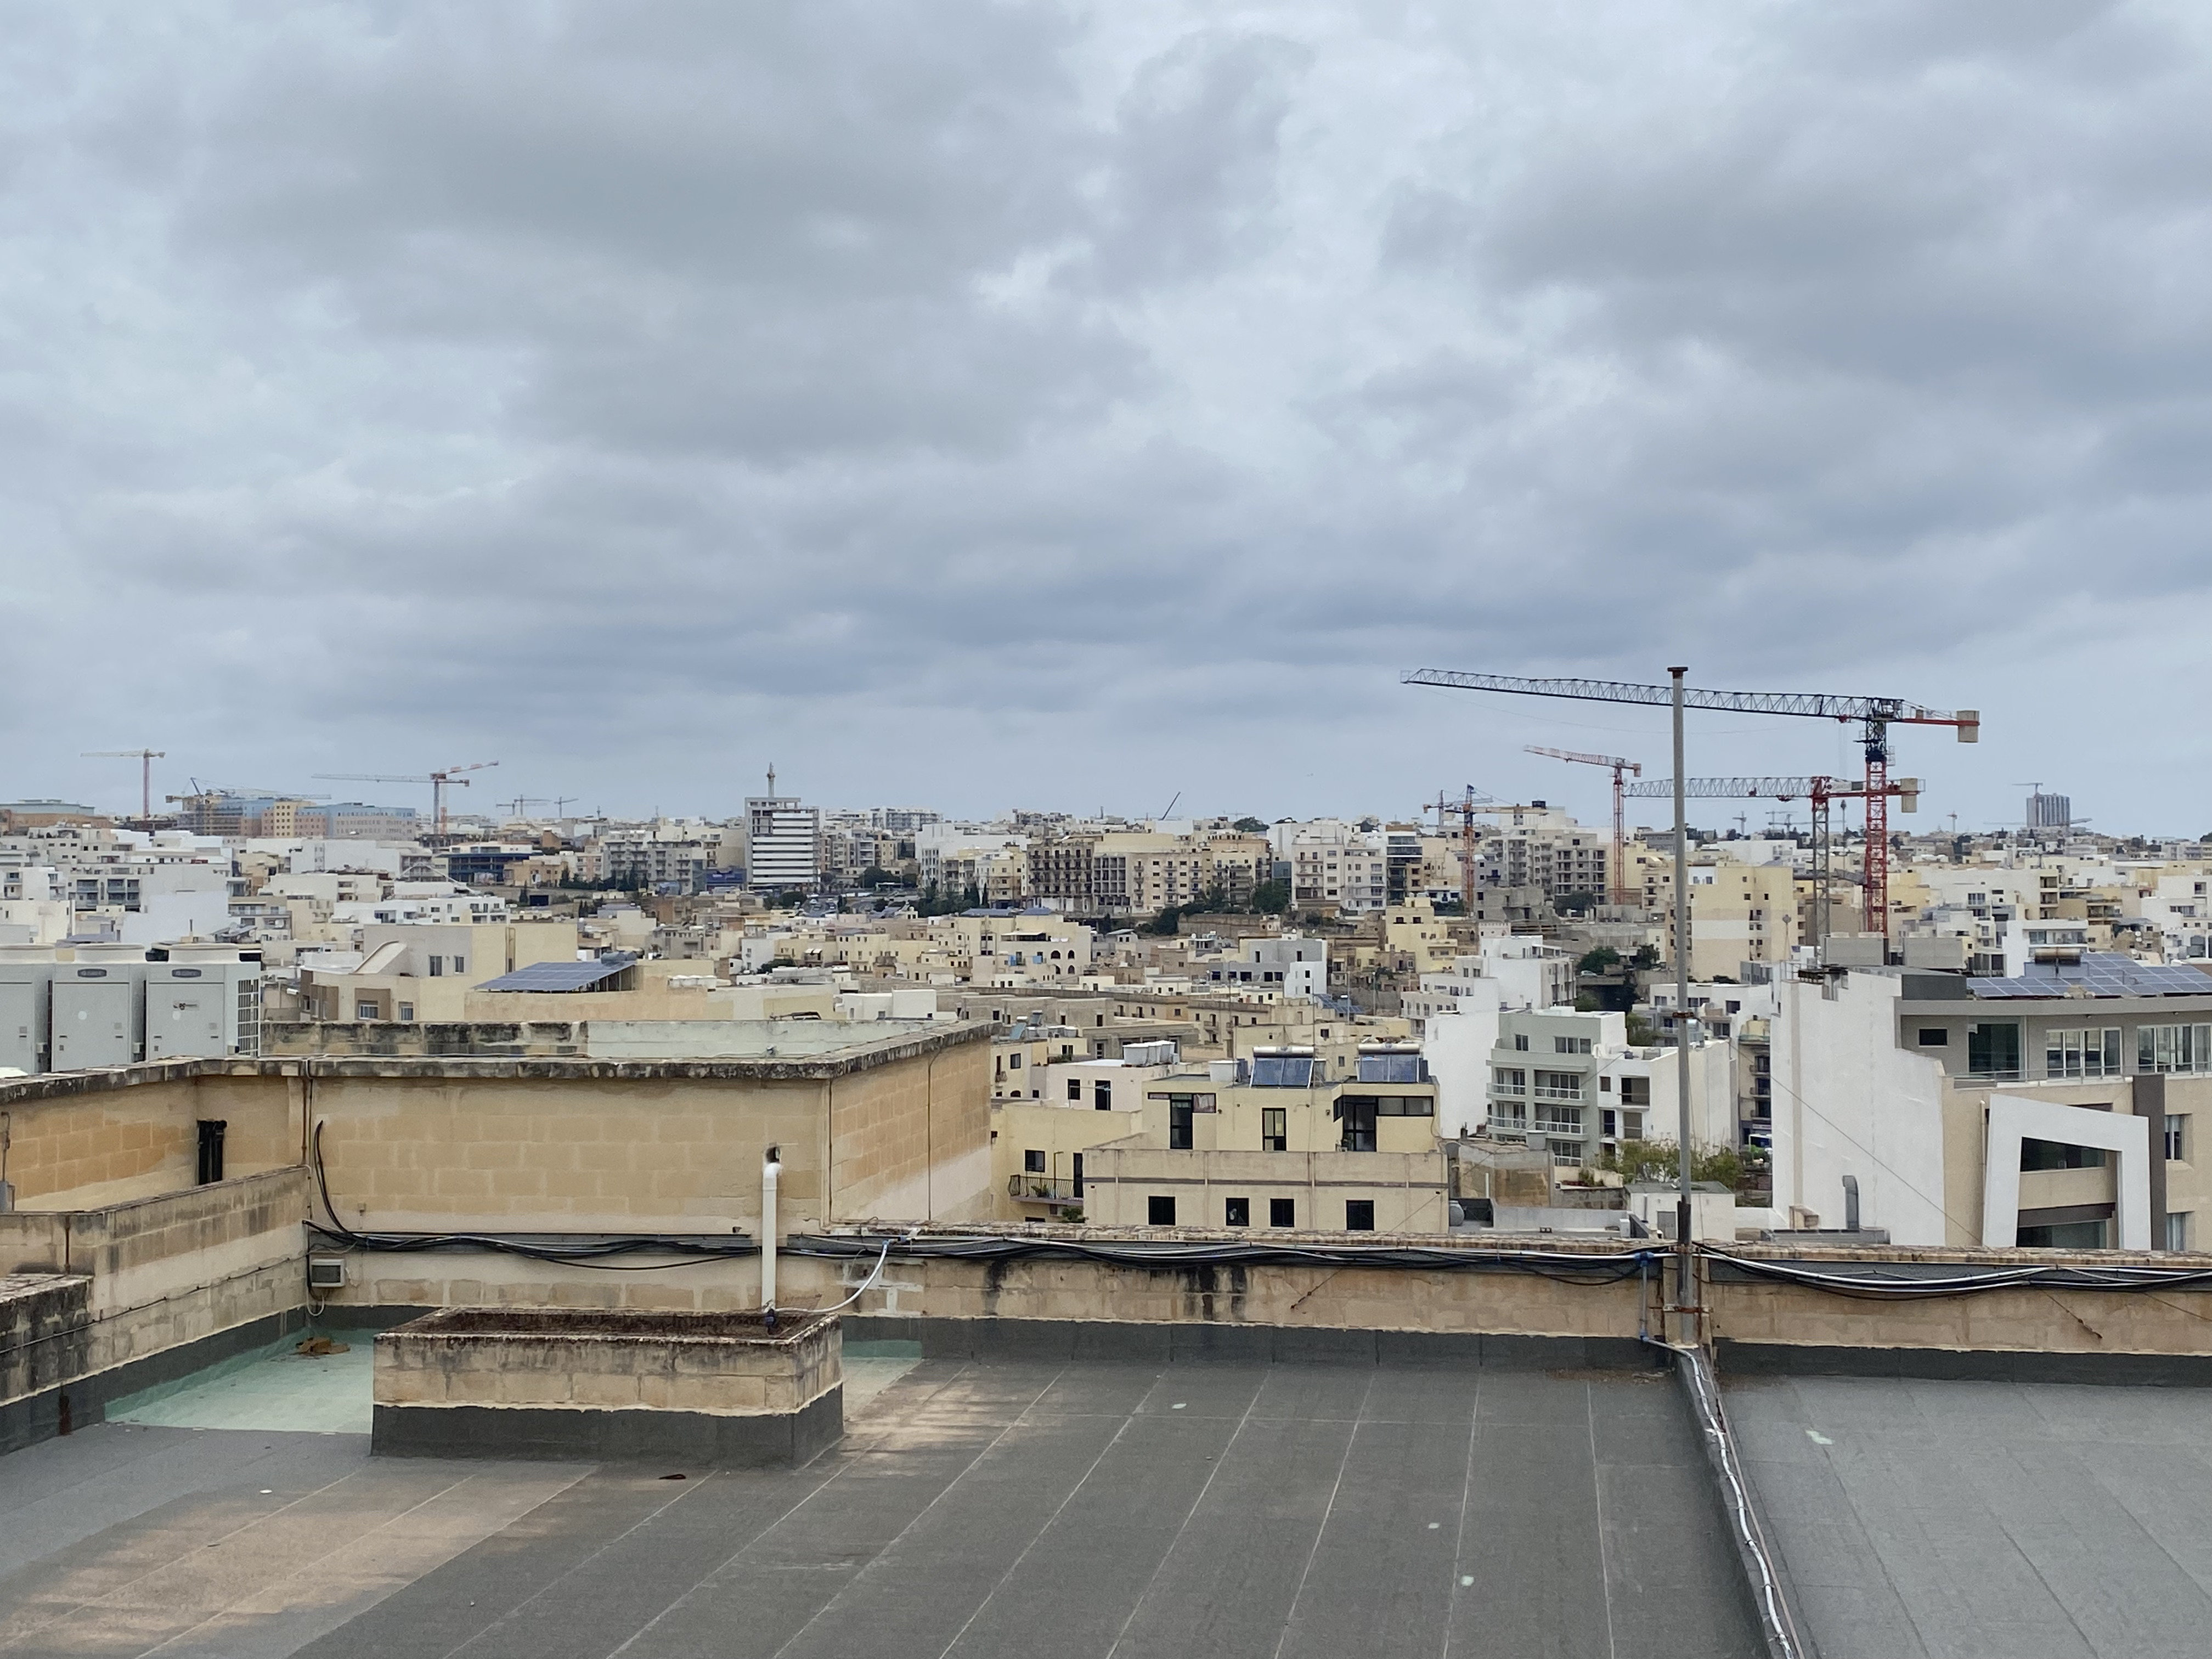Crane: (1385, 652, 2000, 922), (1618, 758, 1933, 958), (1514, 734, 1656, 812), (317, 749, 495, 809), (77, 734, 197, 810)
